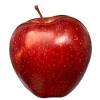apple: (6, 4, 92, 99)
